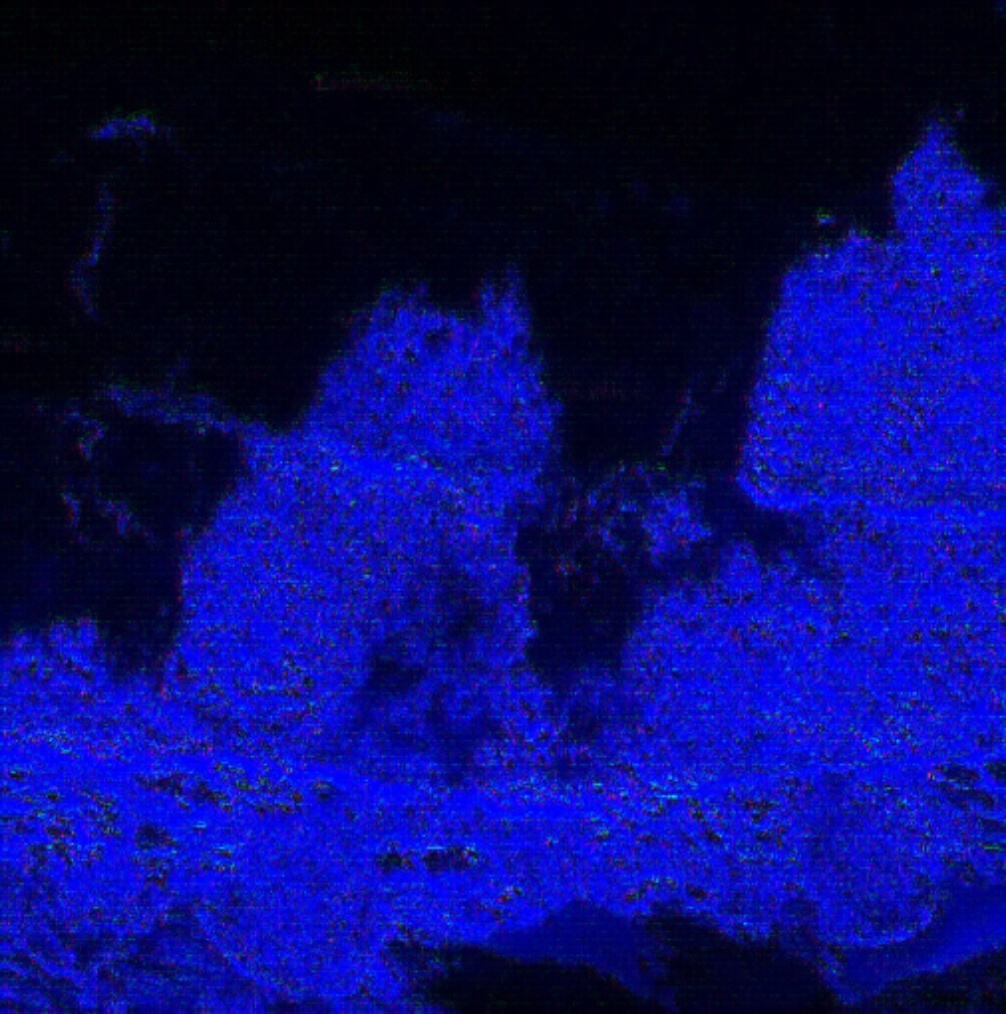rip_current: (435, 239, 791, 798)
